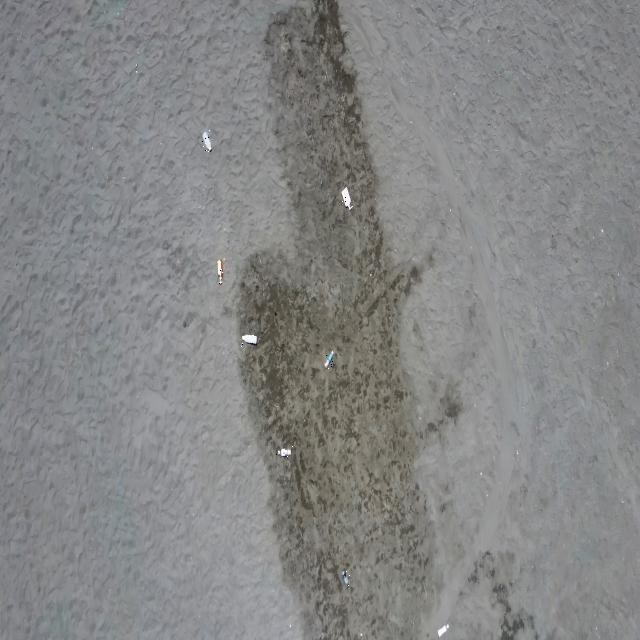plastic-bottle: (340, 186, 354, 213), (241, 331, 258, 347), (202, 129, 212, 153), (324, 349, 334, 370), (276, 446, 293, 458), (217, 258, 224, 286), (437, 623, 450, 638), (341, 568, 350, 588)
